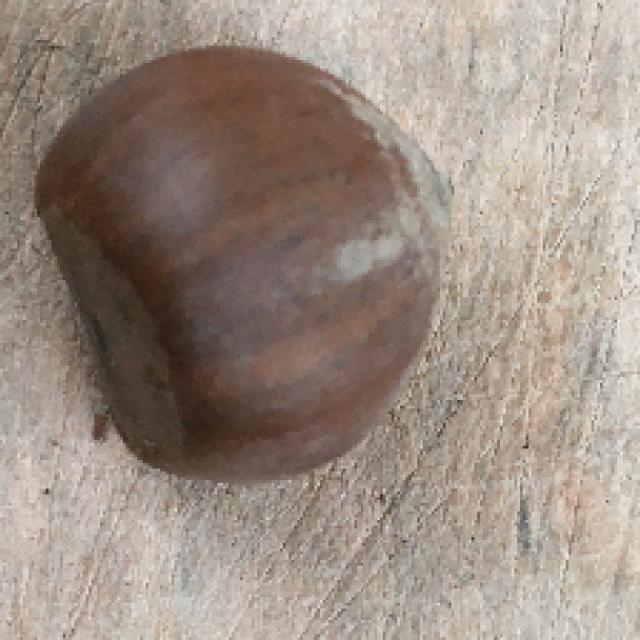damagedHazelnut: (26, 49, 458, 496)
